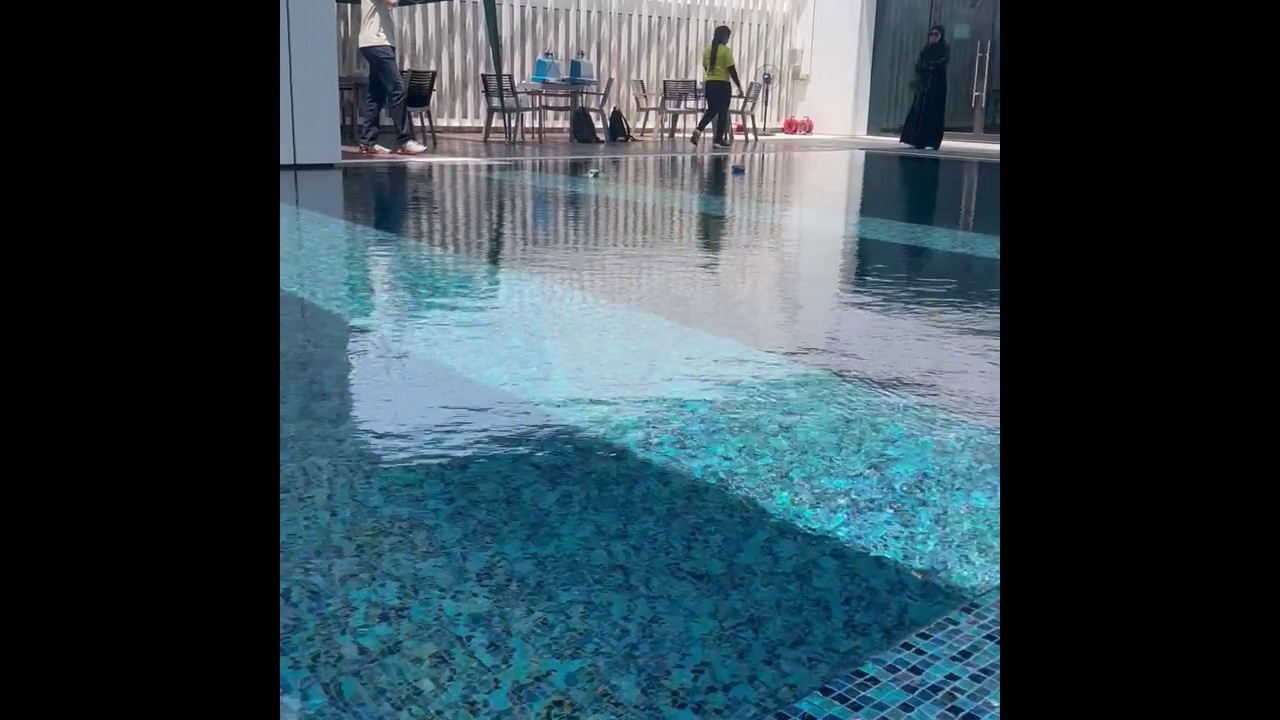debris: (729, 163, 747, 175), (586, 166, 602, 177)
